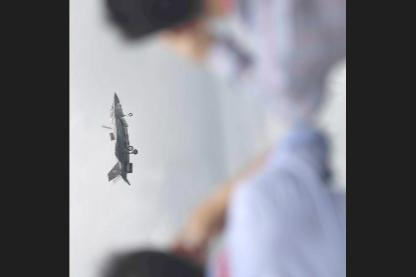F22: (101, 93, 138, 186)
